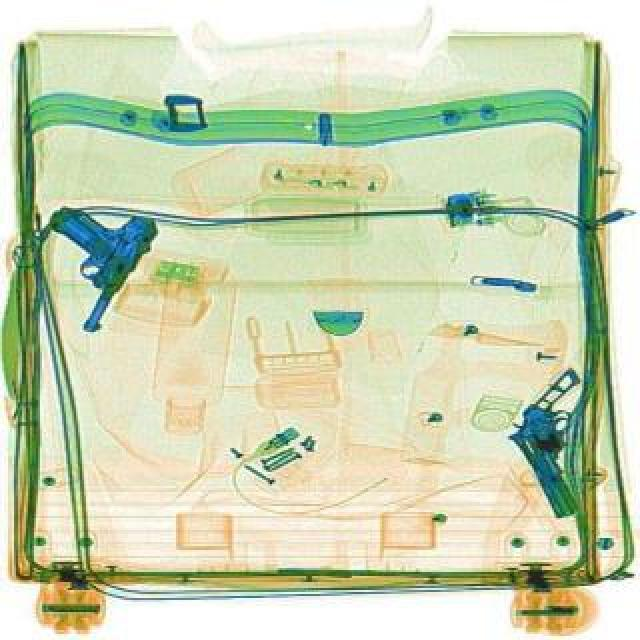gun: (6, 182, 162, 338), (488, 364, 636, 522)
